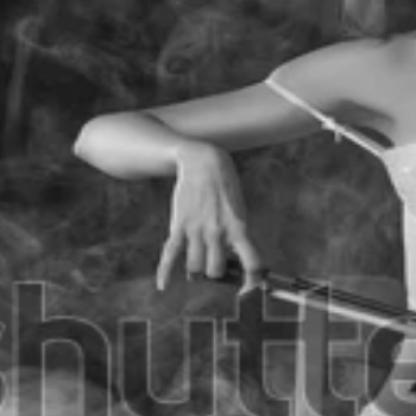bad: (150, 141, 268, 302)
